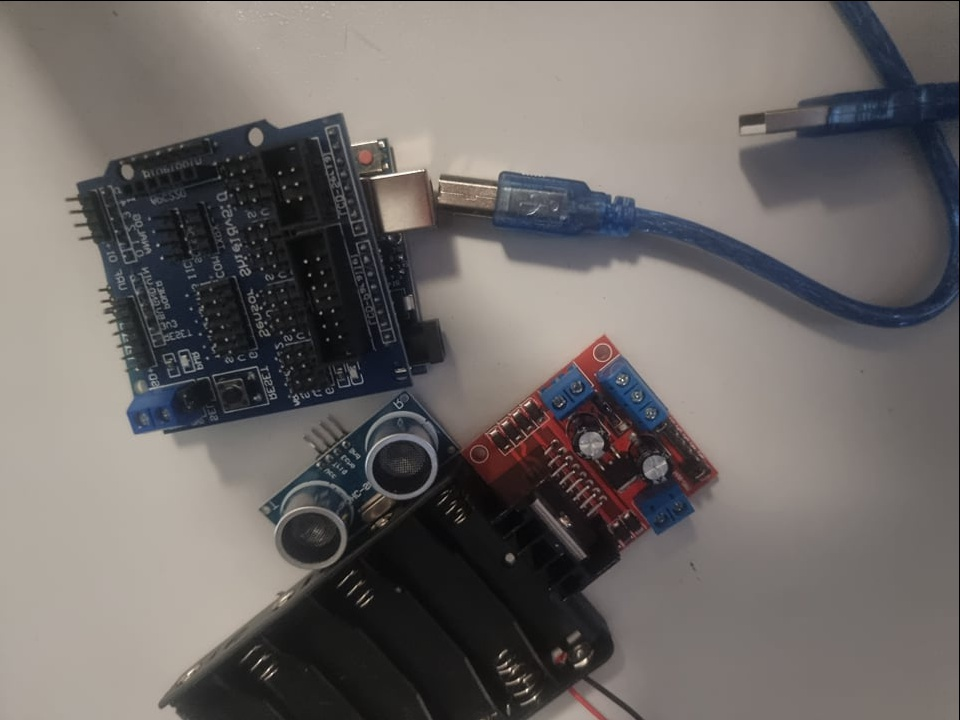5V EXPANSION: (73, 124, 370, 435)
BATTERY BOX: (159, 470, 609, 719)
MOTOR: (480, 341, 724, 592)
SENSOR: (259, 404, 448, 570)
UNO R3: (354, 116, 449, 377)
